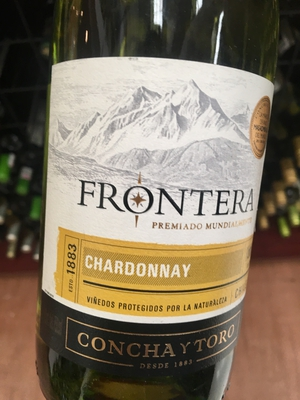frontera chardonnay: (37, 6, 271, 399)
